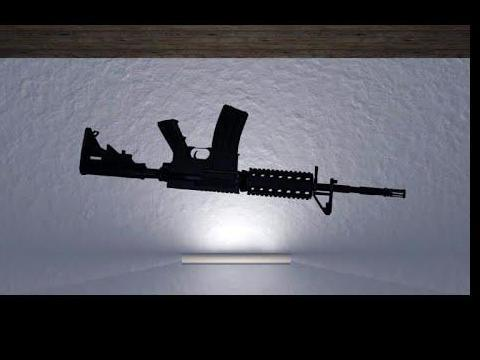larga: (79, 104, 408, 216)
